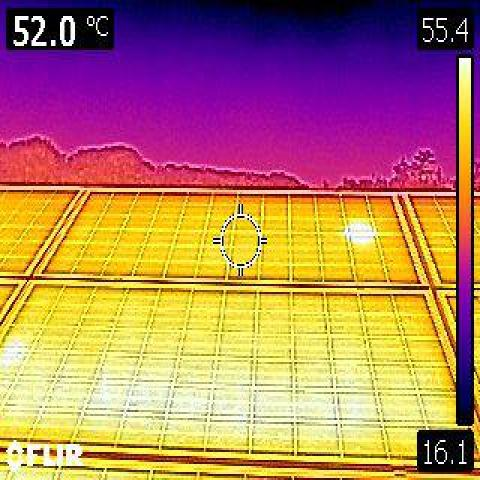fault: (0, 337, 28, 370), (348, 220, 374, 244)
